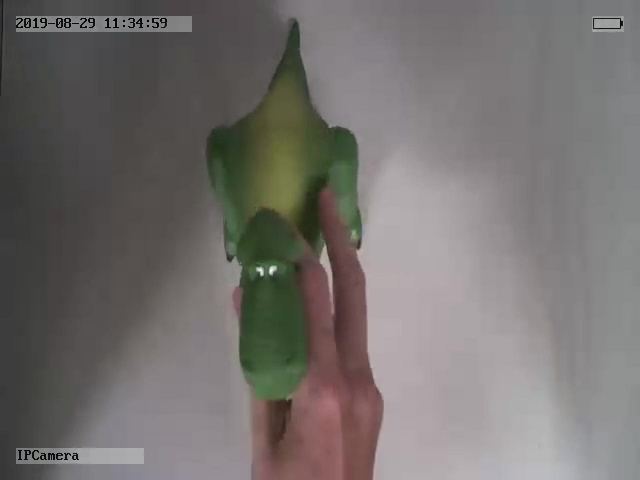rex: (204, 19, 366, 401)
